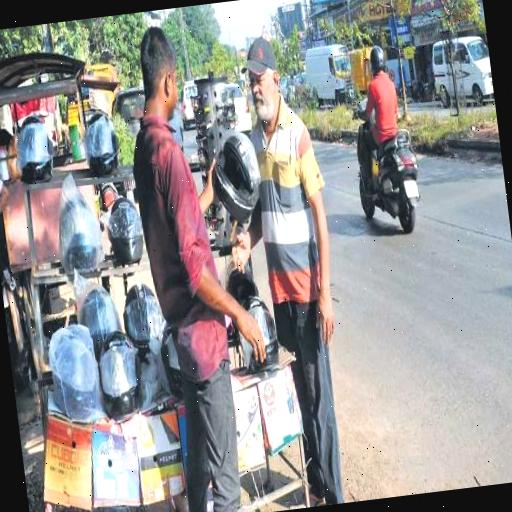helmet: (334, 34, 432, 241)
